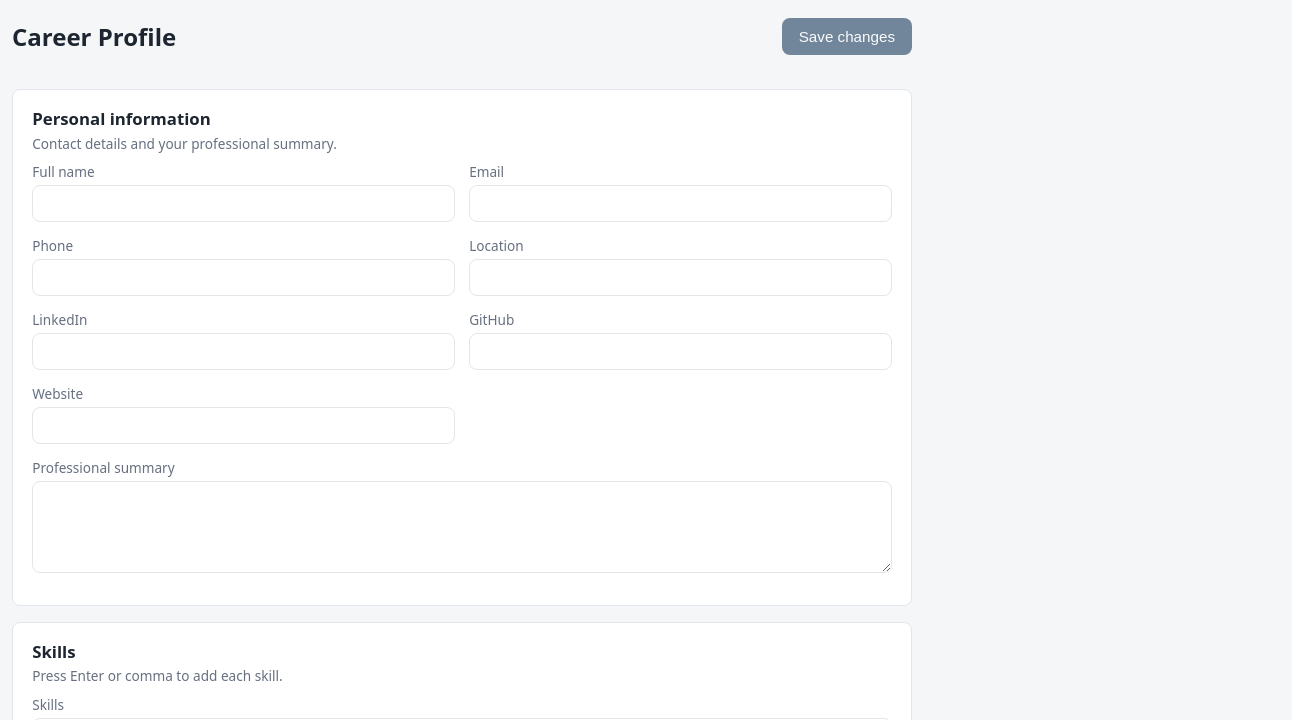
Test: <Profile /> › blocks saving on an invalid email
Step 1. Type "not-an-email" into the field labelled "Email" → (680, 204), box [469, 185, 892, 222]
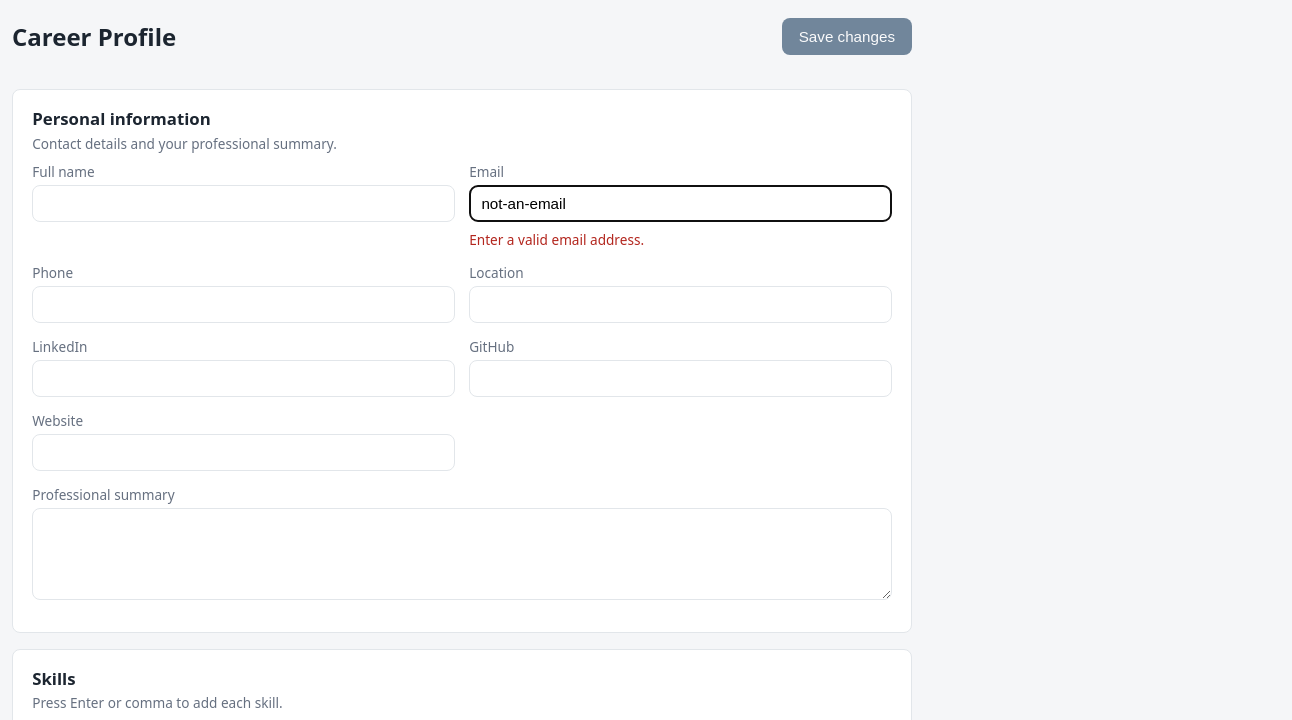
expect the button "Save changes" is disabled: met, box [782, 18, 912, 55]
expect the text "Enter a valid email address." is shown: met, box [469, 230, 644, 249]
